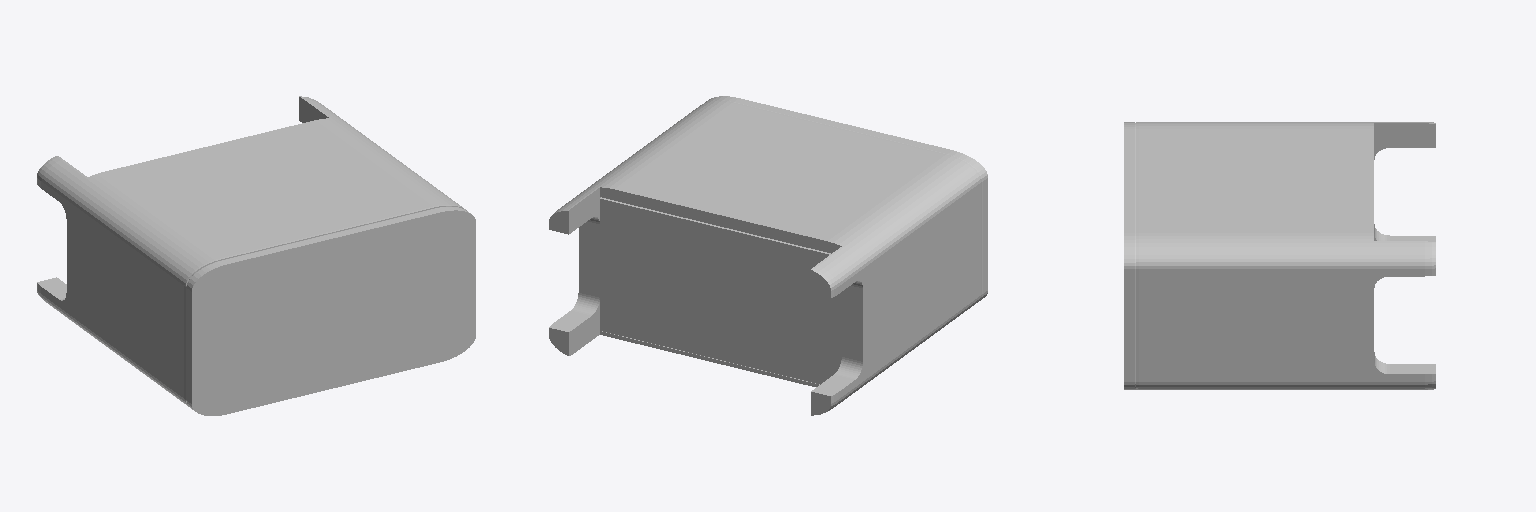
Rendered from busunge2drawers_pink.obj.
3 views of the same model, side by side, from view 1: azimuth 30°, elevation 25°; view 2: azimuth 150°, elevation 25°; view 3: azimuth 270°, elevation 25° (orthographic).
Visible parts, largest first — view 1: obj_0; view 2: obj_0; view 3: obj_0.
Boxes of the visible parts, box(x1,y1,x2,y2) form: obj_0: box(37, 96, 475, 415); obj_0: box(549, 96, 987, 415); obj_0: box(1124, 122, 1435, 389).
Bounding box in the file's own units: 80 × 40.43 × 75.99.